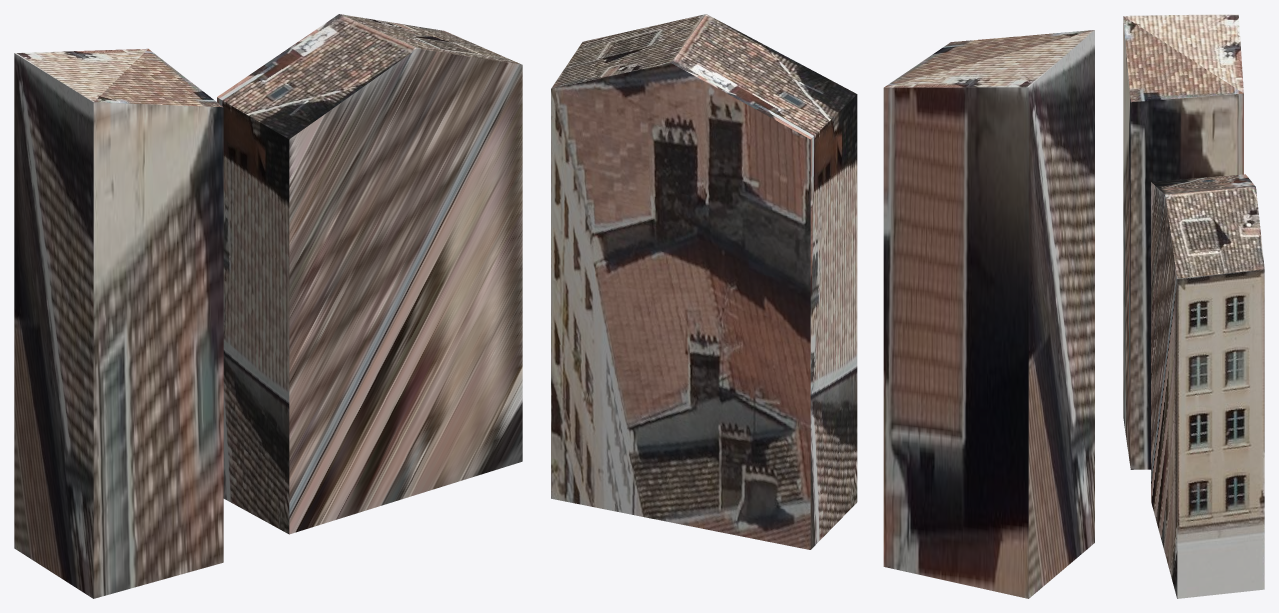
3 views of the same model, side by side, from view 1: azimuth 30°, elevation 25°; view 2: azimuth 150°, elevation 25°; view 3: azimuth 270°, elevation 25° (orthographic). The views are drawn at different scales.
Visible parts, largest first — view 1: Z_UP; view 2: Z_UP; view 3: Z_UP.
Part boxes in pixels (bbox=[...]): Z_UP: bbox=[14, 14, 522, 598]; Z_UP: bbox=[551, 14, 1094, 598]; Z_UP: bbox=[1123, 14, 1264, 598].
Bounding box in the file's own units: 23.3 × 23.53 × 7.53.
2 materials, 1 textured.
